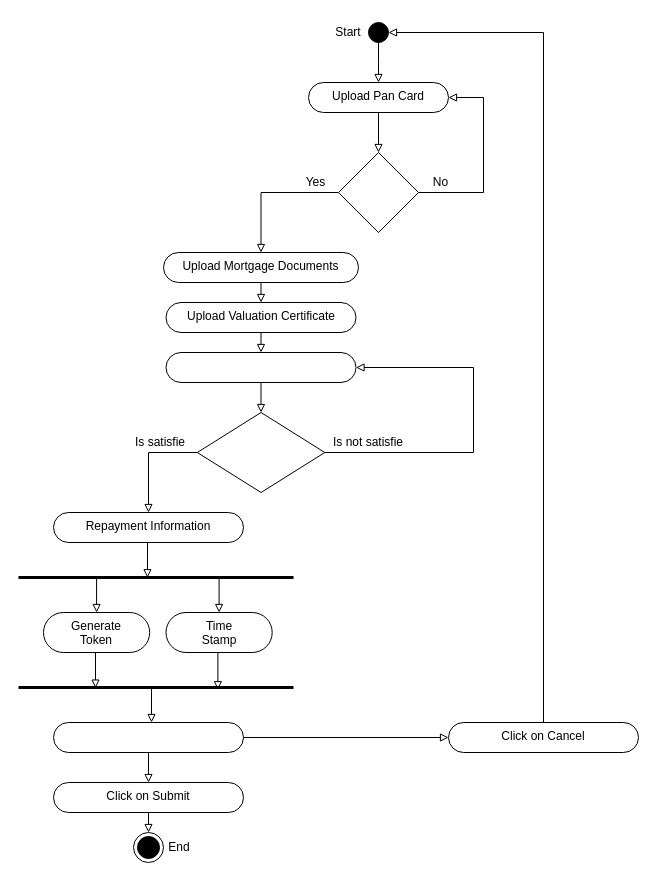
This 656x880 diagram has some shape labels left out. The shapes that lost their labels are listed below. From the top down, each one's centre as x and y in pixels, then its label:
At point 378,192: "Is Valid?".
At point 260,367: "Enter Loan Amount".
At point 260,452: "Check Credit Score?".
At point 148,737: "Review Application".
